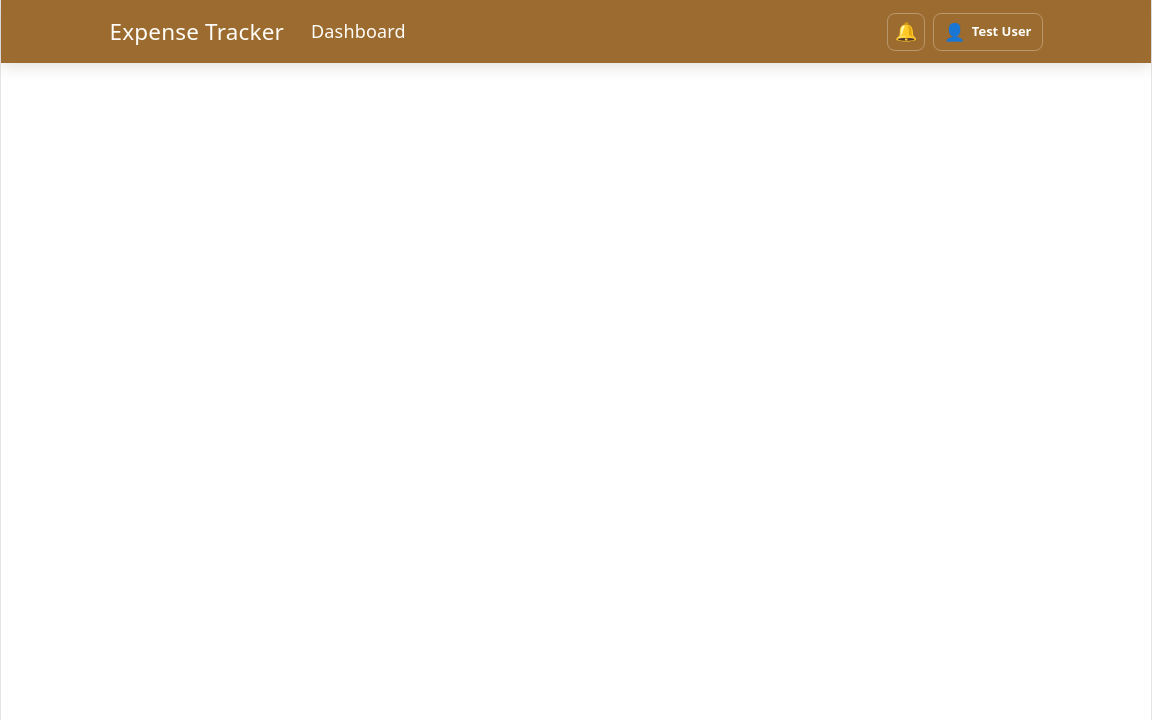
Navbar › shows the profile name and logout action
Step 1. Click the button with aria-label "Profile" → click(988, 32), box 933,12 -> 1042,50
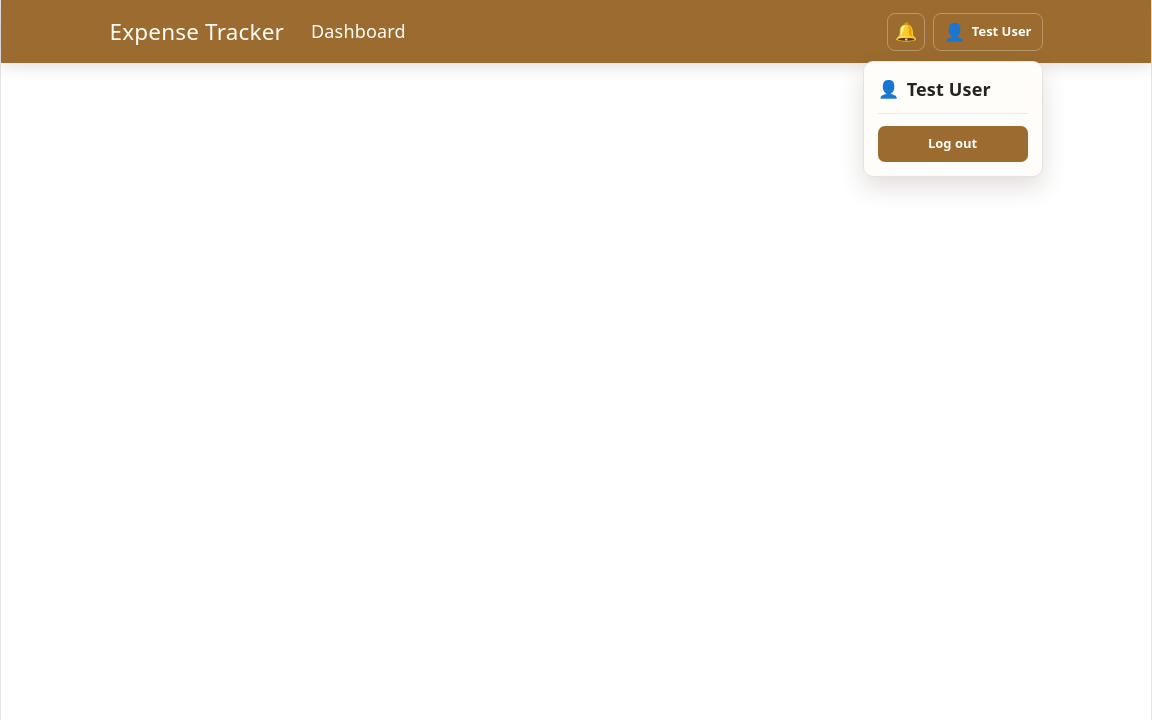
Expected: the text "Test User" is shown 2 times, 972,22 -> 1032,41; 907,76 -> 991,102
Expected: the button "Log out" is shown, 878,126 -> 1028,162
